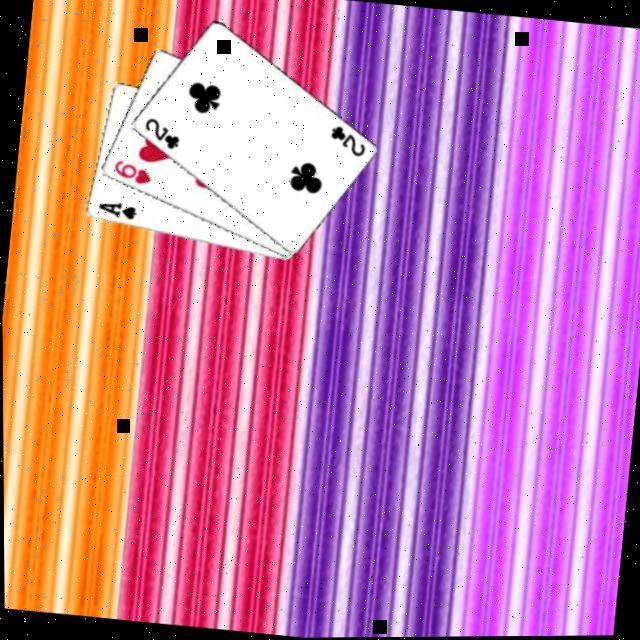2C: (139, 115, 184, 153), (326, 123, 370, 161)
6H: (109, 158, 155, 189)
AS: (94, 198, 140, 224)
